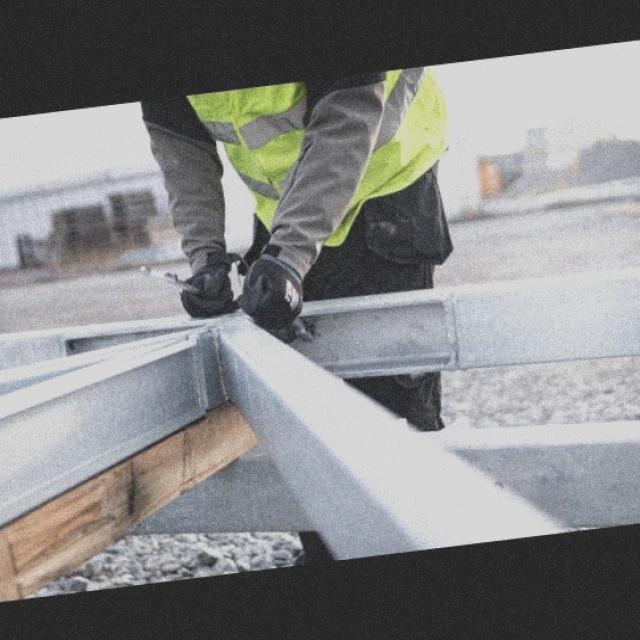safety_vest: (185, 65, 451, 247)
